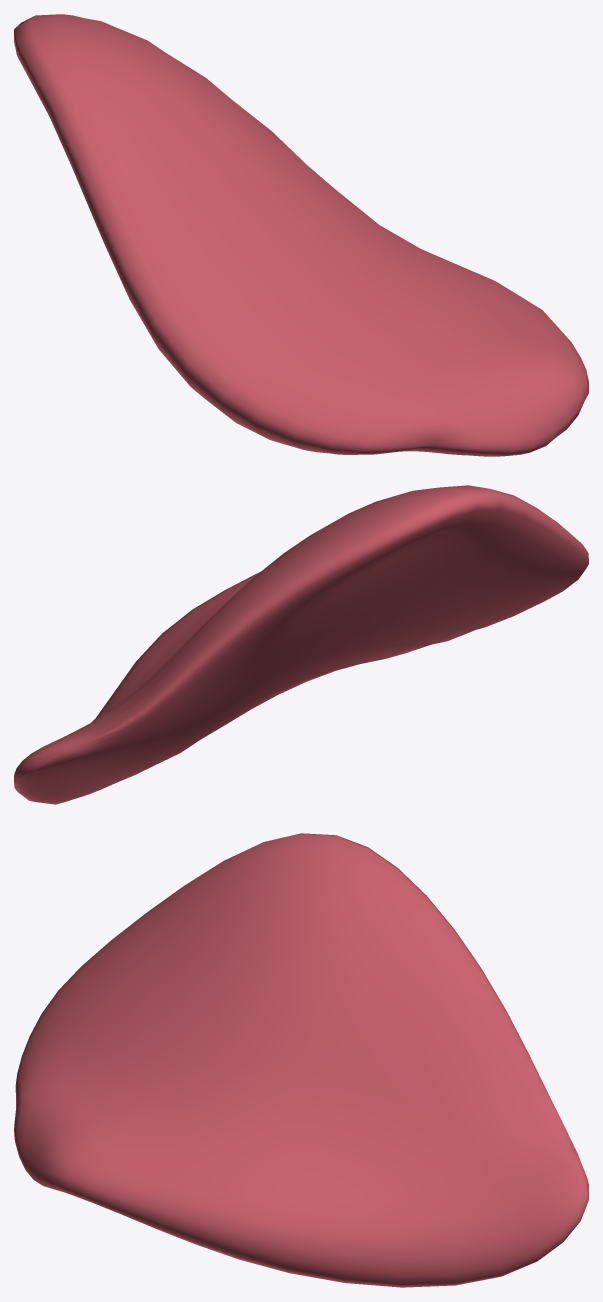
The picture shows the model from 3 angles, top to bottom: view 1: azimuth 30°, elevation 25°; view 2: azimuth 150°, elevation 25°; view 3: azimuth 270°, elevation 25°; orthographic projection. The views are drawn at different scales.
Parts seen in each view (by area): view 1: 左侧臀中肌转子囊; view 2: 左侧臀中肌转子囊; view 3: 左侧臀中肌转子囊.
Boxes of the visible parts, box(x1,y1,x2,y2) form: 左侧臀中肌转子囊: box(14, 14, 588, 456); 左侧臀中肌转子囊: box(14, 485, 588, 804); 左侧臀中肌转子囊: box(14, 833, 588, 1287).
Size of the model in its own units: 0.0228 by 0.0194 by 0.0328.
